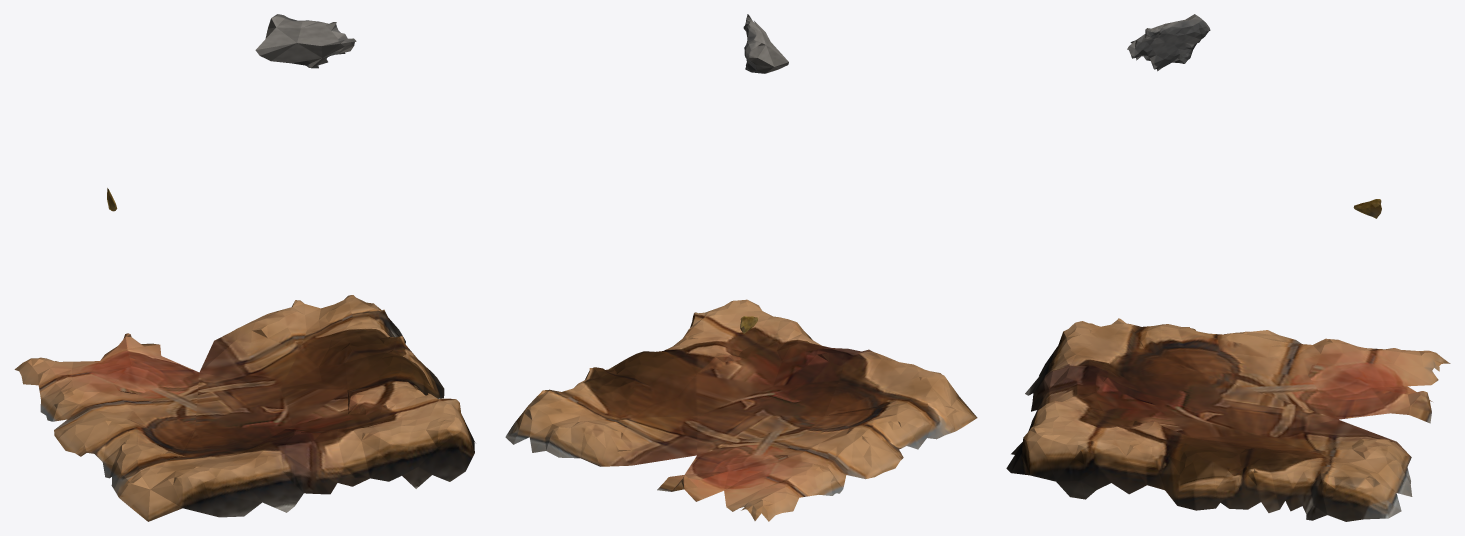
The model's file is salvage_raft_photogrammetry_scan.glb.
3 renders of one model, left to right at view 1: azimuth 30°, elevation 25°; view 2: azimuth 150°, elevation 25°; view 3: azimuth 270°, elevation 25°, orthographic. The views are drawn at different scales.
Visible parts, largest first — view 1: texturedMesh; view 2: texturedMesh; view 3: texturedMesh.
Part boxes in pixels (x1,y1,x2,y2): texturedMesh: (14,14,475,521); texturedMesh: (505,14,977,521); texturedMesh: (1006,14,1450,521).
Size of the model in its own units: 2.27 by 2.4 by 2.3.
Materials: 1 (1 with a texture image).
